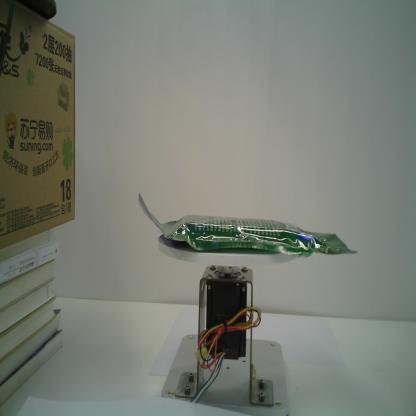Dried Food: (137, 192, 360, 260)
